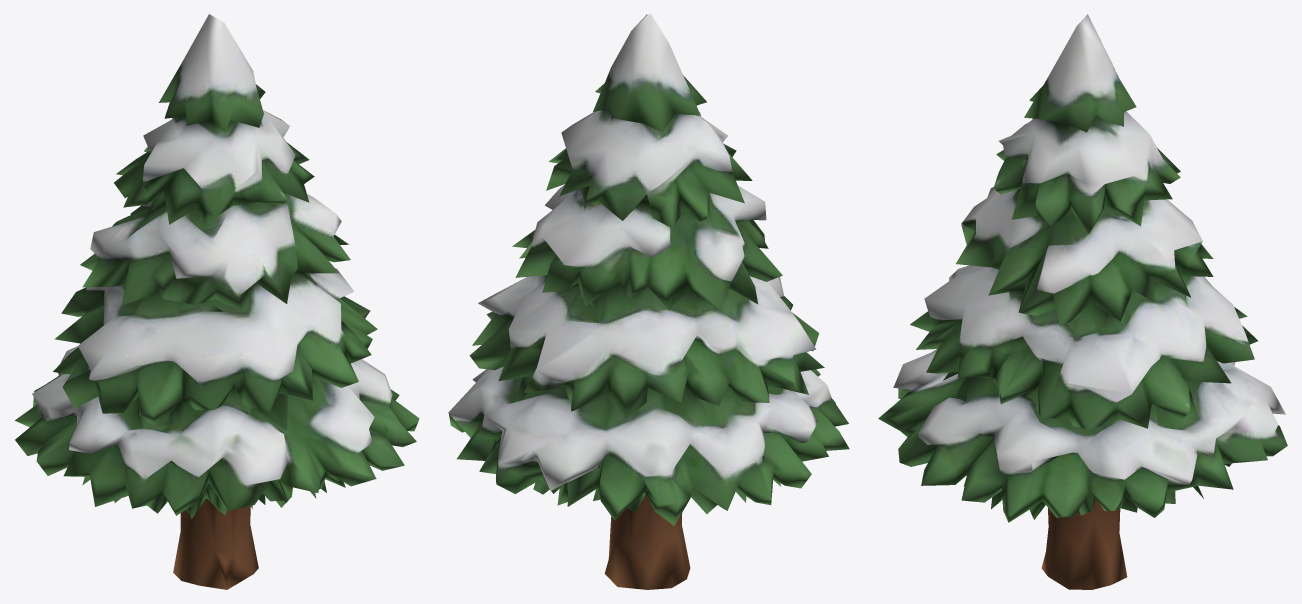
Rendered from pine.glb.
3 views of the same model, side by side, from view 1: azimuth 30°, elevation 25°; view 2: azimuth 150°, elevation 25°; view 3: azimuth 270°, elevation 25° (orthographic).
Visible parts, largest first — view 1: tripo_node_d738672c-6fb7-474c-9406-5134c47ec656; view 2: tripo_node_d738672c-6fb7-474c-9406-5134c47ec656; view 3: tripo_node_d738672c-6fb7-474c-9406-5134c47ec656.
Boxes of the visible parts, x1,y1,x2,y2 form: tripo_node_d738672c-6fb7-474c-9406-5134c47ec656: [15, 14, 419, 589]; tripo_node_d738672c-6fb7-474c-9406-5134c47ec656: [448, 14, 849, 589]; tripo_node_d738672c-6fb7-474c-9406-5134c47ec656: [878, 14, 1287, 589].
Size of the model in its own units: 0.6468 by 1 by 0.6672.
Materials: 1 (1 with a texture image).
